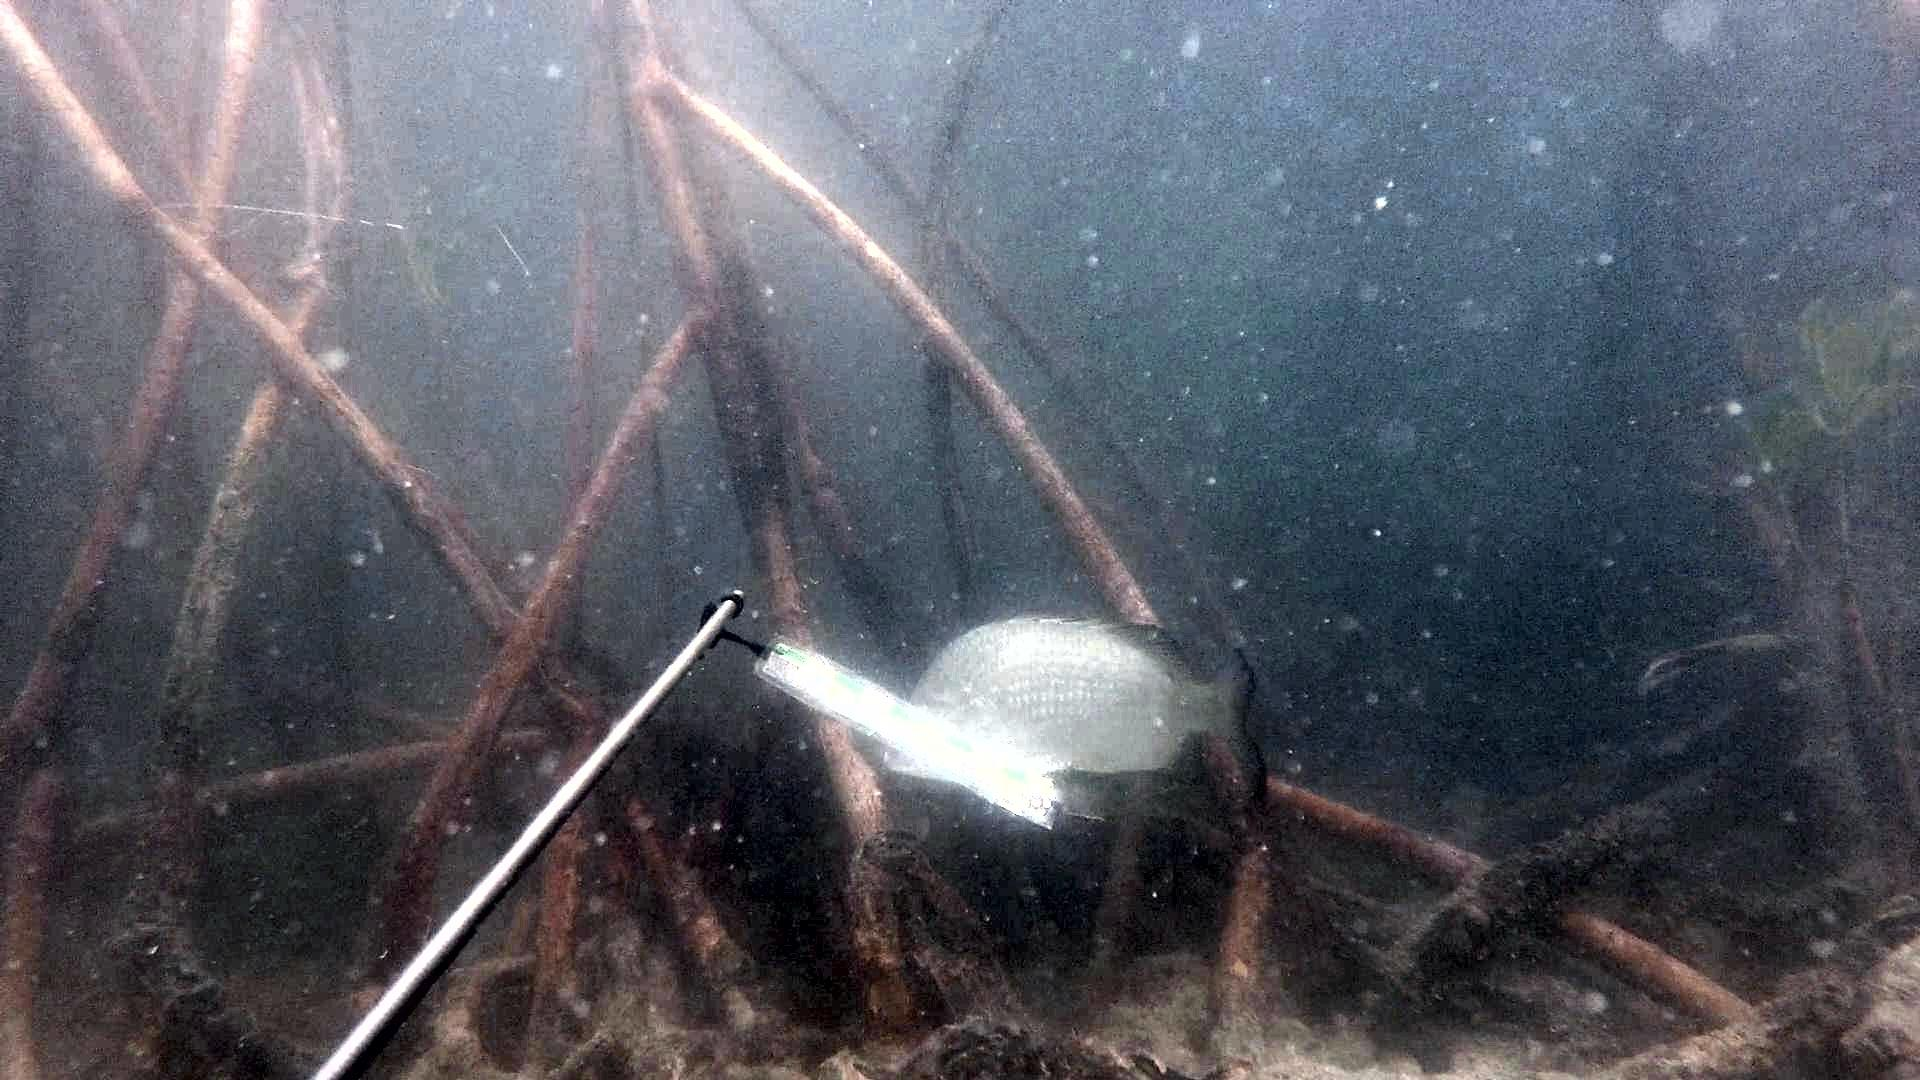acanthopagrus palmaris: (876, 611, 1283, 837)
